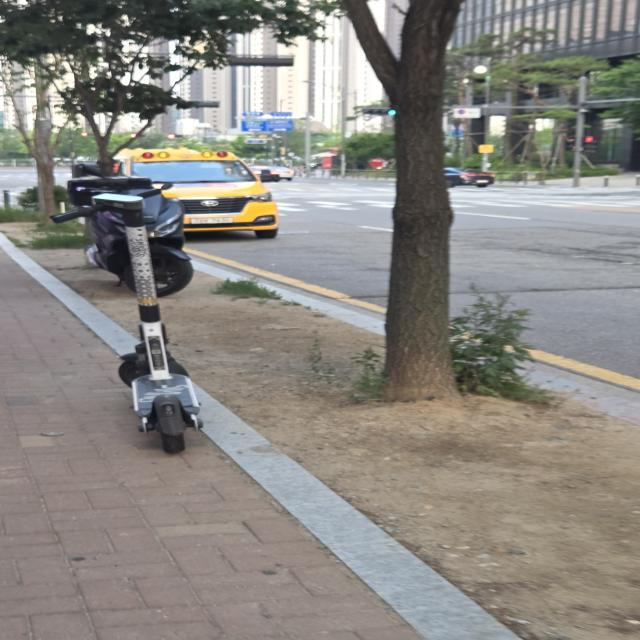car: (76, 140, 310, 253)
motorcycle: (51, 156, 220, 300)
